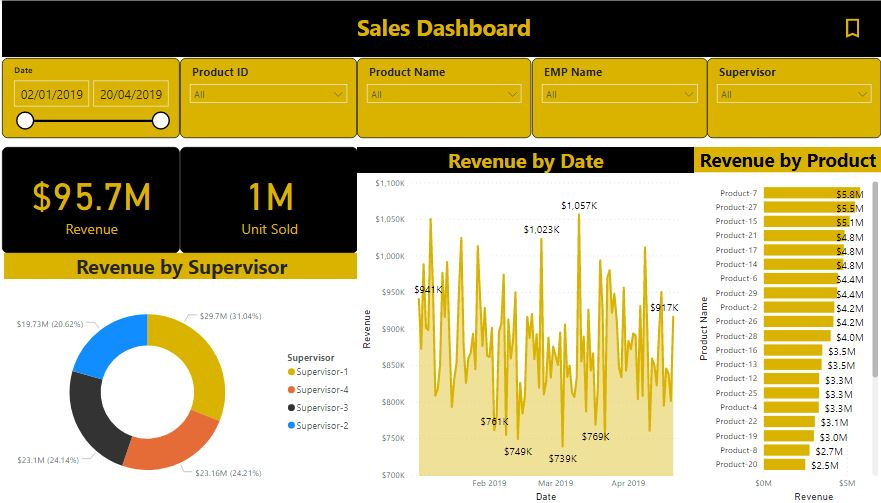

The page's visual inventory and layout, read from the dashboard file:
{"tool":"powerbi","page":{"name":"Sales Data Dashboard","canvas":[1280,720],"ordinal":0},"visuals":[{"type":"basicShape","box":[0,0,1280,82.2],"z":0},{"type":"textbox","box":[503.3,11.7,275.1,58.7],"z":1000},{"type":"slicer","fields":{"Values":["Sales Data.Date"]},"box":[13.4,82.2,253.3,114.1],"z":2000},{"type":"slicer","fields":{"Values":["Product Master.Product ID"]},"box":[266.7,82.2,251.6,114.1],"z":3000},{"type":"slicer","fields":{"Values":["Product Master.Product Name"]},"box":[518.4,82.2,248.3,114.1],"z":4000},{"type":"slicer","fields":{"Values":["Emp Master.EMP Name"]},"box":[766.7,82.2,250,114.1],"z":5000},{"type":"slicer","fields":{"Values":["Emp Master.Supervisor"]},"box":[1016.6,82.2,248.3,114.1],"z":6000},{"type":"card","fields":{"Values":["Sum(Sales Data.Revenue)"]},"box":[13.4,209.7,253.3,151],"z":7000},{"type":"card","fields":{"Values":["Sum(Sales Data.Unit Sold)"]},"box":[266.7,209.7,253.3,151],"z":8000},{"type":"donutChart","fields":{"Category":["Emp Master.Supervisor","Emp Master.EMP Name"],"Y":["Sum(Sales Data.Revenue)"]},"box":[15.1,360.7,505,359],"z":9000},{"type":"areaChart","fields":{"Category":["Sales Data.Date"],"Y":["Sum(Sales Data.Revenue)"]},"box":[518.4,209.7,479.8,510],"z":10000},{"type":"barChart","title":"Revenue by Product","fields":{"Category":["Product Master.Product Name"],"Y":["Sum(Sales Data.Revenue)"]},"box":[998.2,209.7,266.7,510],"z":11000},{"type":"actionButton","box":[1204.9,20.5,35.8,39.3],"z":11001}]}

Visuals, with their boxes in screenshot pixels (x1, y1, x2, y2), scaled from the page's 1280x720 canvas onto the 881x503 screenshot:
basicShape: (0,0,880,57)
textbox: (346,8,536,49)
slicer - Sales Data.Date: (9,57,184,137)
slicer - Product Master.Product ID: (184,57,357,137)
slicer - Product Master.Product Name: (357,57,528,137)
slicer - Emp Master.EMP Name: (528,57,700,137)
slicer - Emp Master.Supervisor: (700,57,871,137)
card - Sum(Sales Data.Revenue): (9,146,184,252)
card - Sum(Sales Data.Unit Sold): (184,146,358,252)
donutChart - Emp Master.Supervisor x Emp Master.EMP Name: (10,252,358,502)
areaChart - Sales Data.Date x Sum(Sales Data.Revenue): (357,146,687,502)
"Revenue by Product" barChart: (687,146,871,502)
actionButton: (829,14,854,42)
